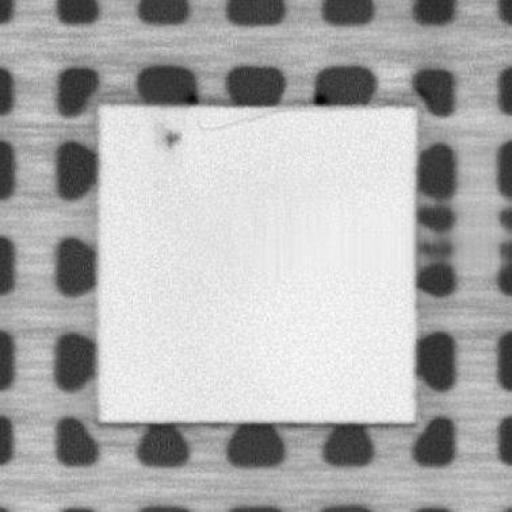DIE_INK: (157, 126, 186, 150)
